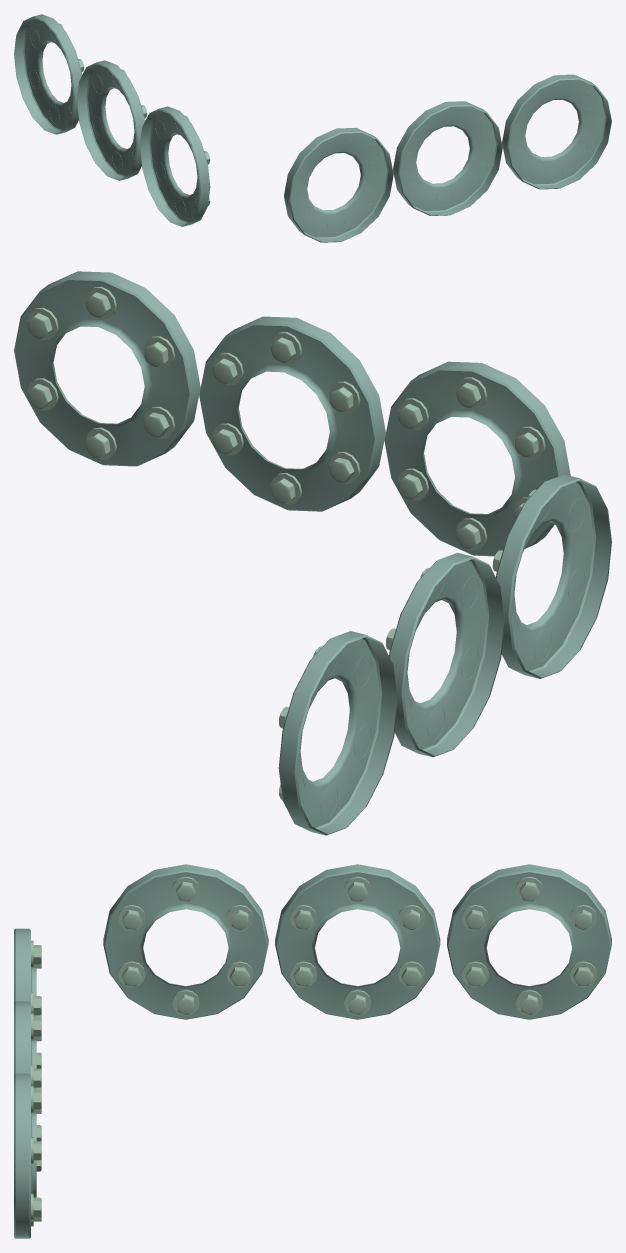
Rendered from PipeComplexLarge_A3_05_End.fbx.
3 renders of one model, top to bottom at view 1: azimuth 30°, elevation 25°; view 2: azimuth 150°, elevation 25°; view 3: azimuth 270°, elevation 25°, orthographic. The views are drawn at different scales.
Visible parts, largest first — view 1: PipeComplexLarge_A3_05_End.001; view 2: PipeComplexLarge_A3_05_End.001; view 3: PipeComplexLarge_A3_05_End.001.
Boxes of the visible parts, x1=… form: PipeComplexLarge_A3_05_End.001: x1=14, y1=14, x2=611, y2=242; PipeComplexLarge_A3_05_End.001: x1=14, y1=271, x2=611, y2=835; PipeComplexLarge_A3_05_End.001: x1=14, y1=864, x2=611, y2=1238.
Size of the model in its own units: 1.39 by 0.3846 by 1.39.
